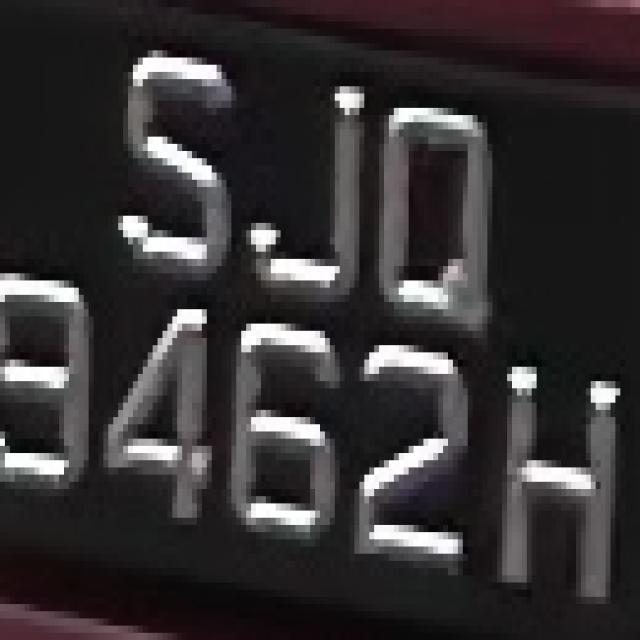2: (340, 330, 478, 590)
4: (98, 259, 242, 546)
6: (206, 302, 340, 568)
9: (10, 208, 98, 540)
H: (487, 331, 640, 618)
J: (222, 51, 384, 310)
Q: (374, 36, 492, 367)
S: (113, 0, 231, 316)
